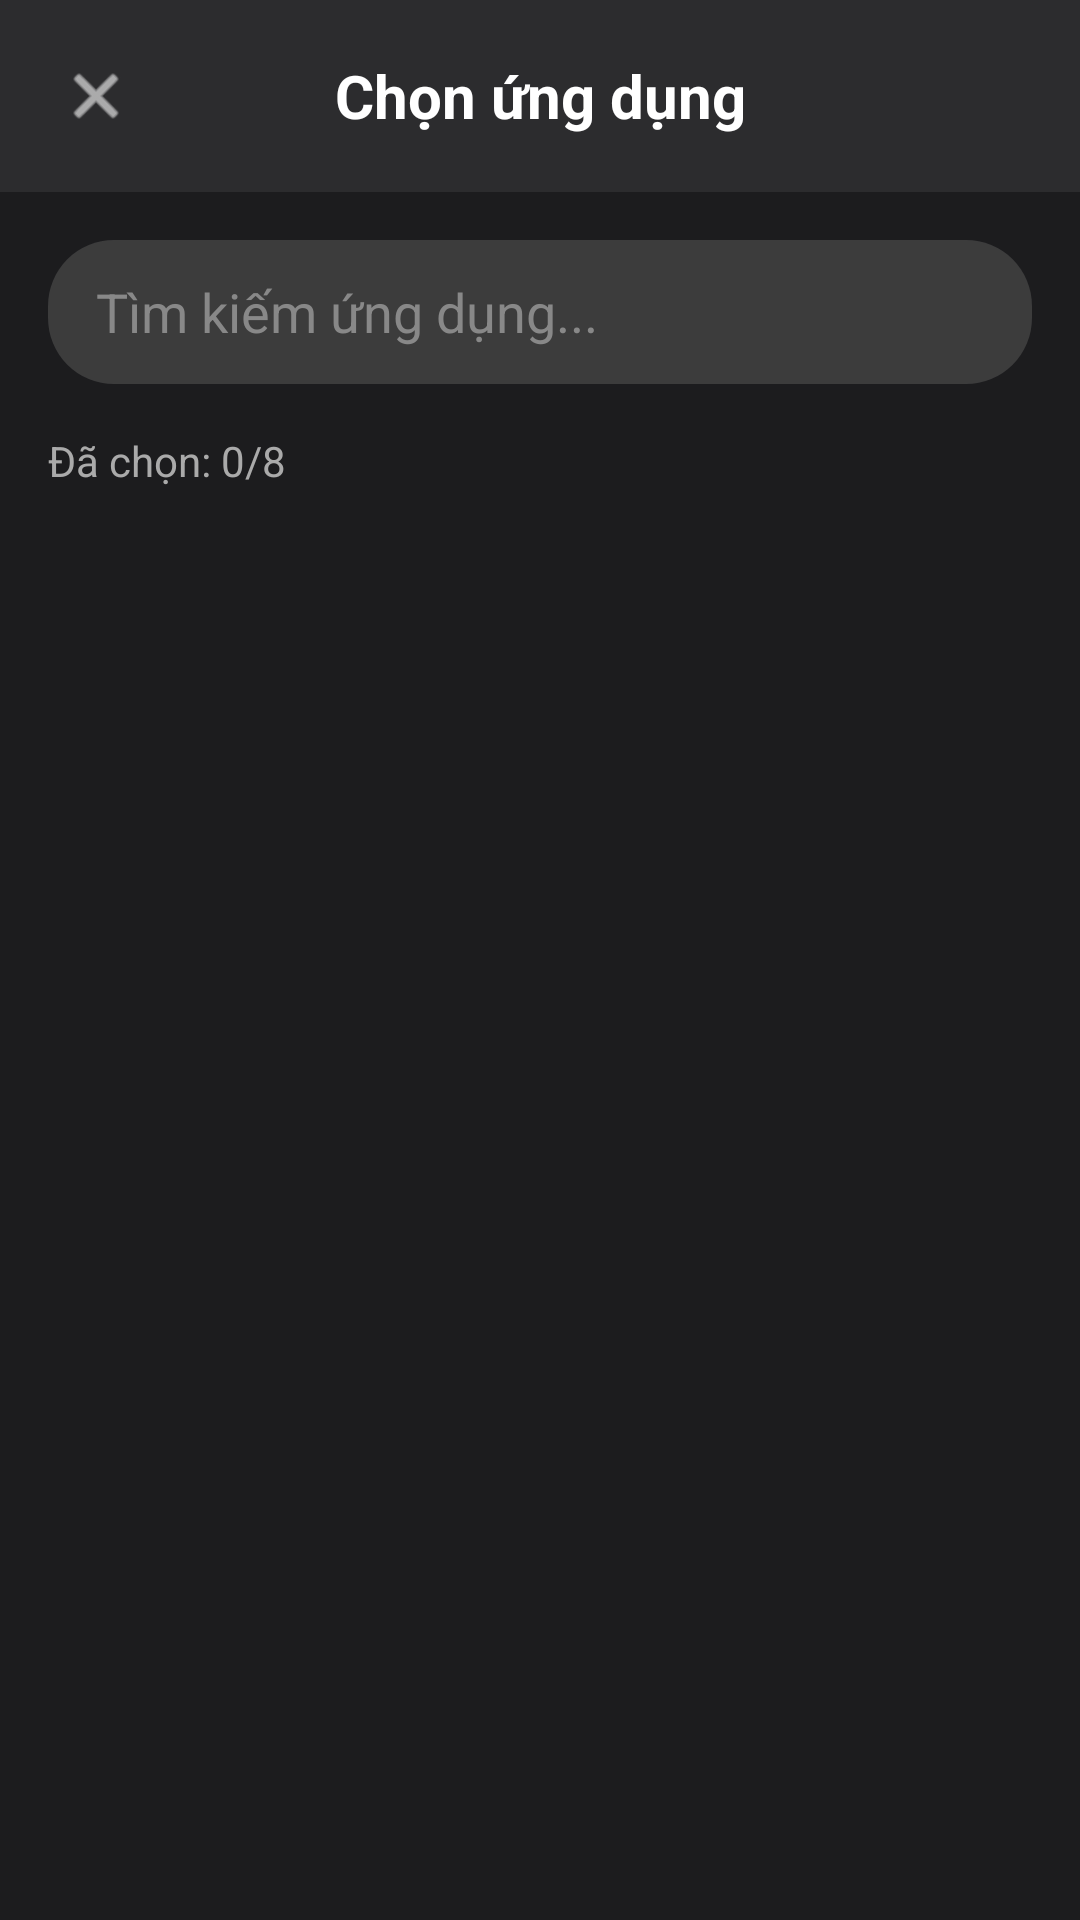

Locate icon controls on the screen. Image size 1080px x 1920px, boxes as (x1, y1, x2, y2).
close clear cancel: (73, 73, 119, 119)
